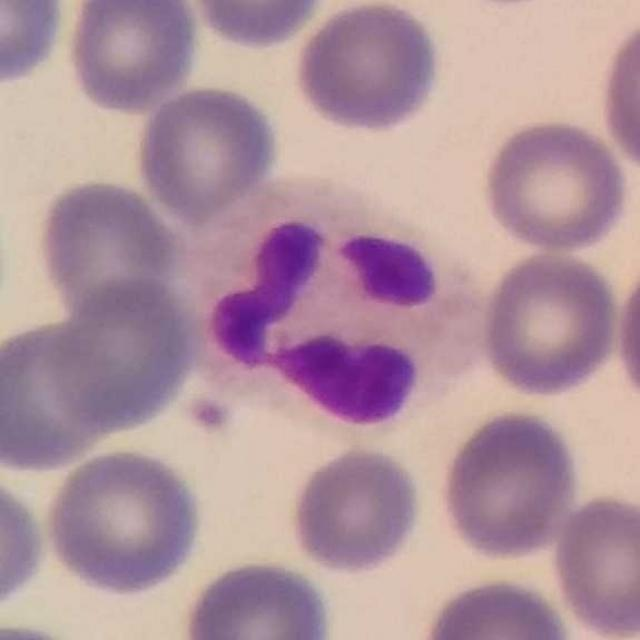Neutrophil: (190, 170, 495, 430)
Platelets: (188, 393, 234, 435)
RBC: (41, 274, 202, 436), (40, 443, 207, 599), (31, 172, 185, 323), (435, 406, 582, 563), (478, 246, 624, 401), (478, 115, 634, 256), (132, 80, 282, 224), (290, 0, 446, 136), (1, 314, 127, 475), (285, 442, 426, 578), (61, 0, 204, 115), (548, 490, 640, 639), (178, 554, 337, 640), (414, 573, 577, 640), (181, 0, 331, 52), (595, 10, 640, 180), (0, 466, 50, 617), (0, 0, 69, 89), (612, 245, 640, 417), (1, 615, 88, 640)
